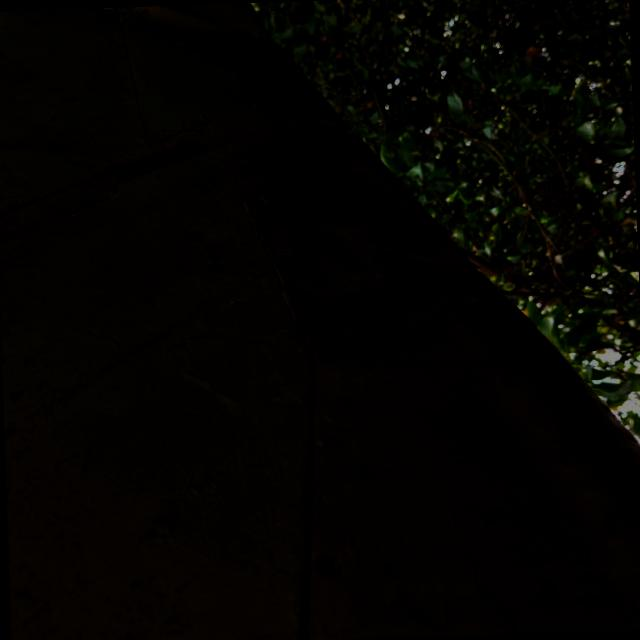dent: (247, 199, 494, 386)
missing-head: (298, 535, 359, 591), (242, 184, 278, 216)
